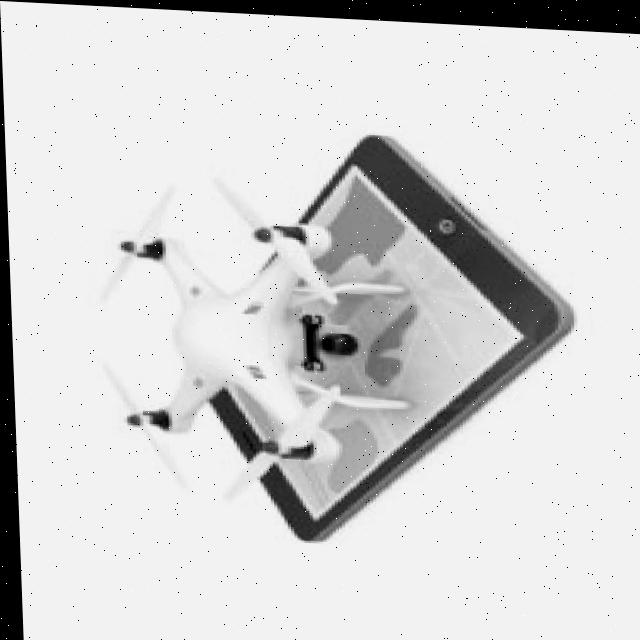drone: (84, 164, 389, 507)
